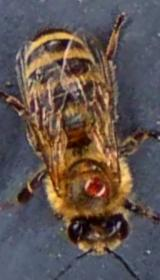varroa_mite: (80, 164, 112, 207)
